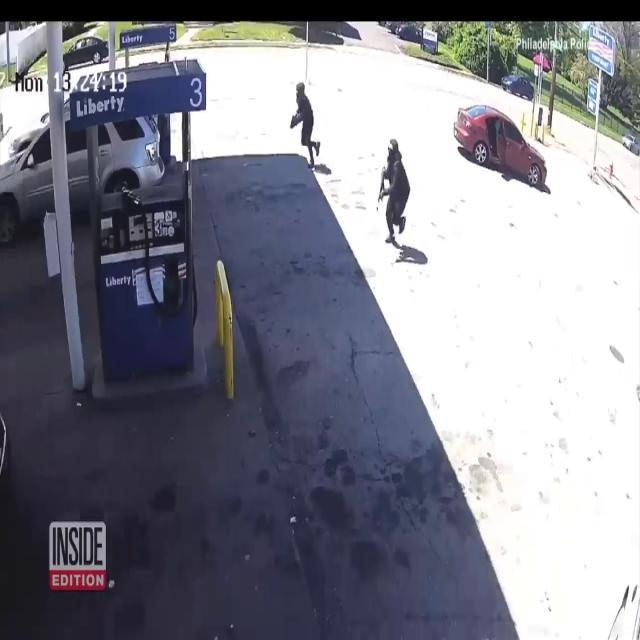penembakan: (374, 138, 412, 256), (288, 81, 322, 173)
